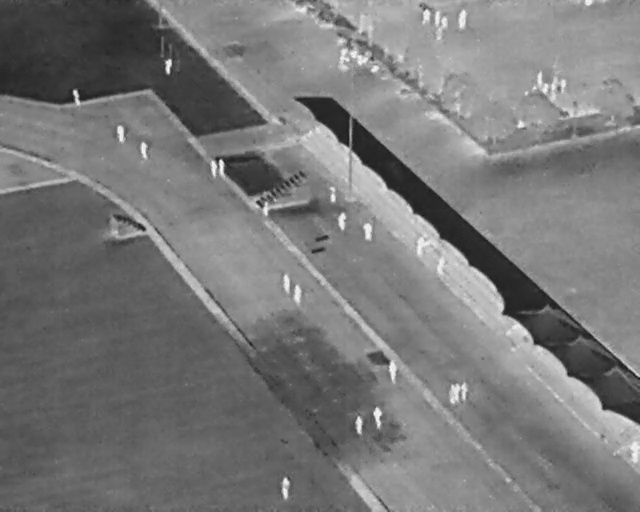DontCare: (333, 37, 385, 78)
Person: (281, 477, 291, 500), (458, 8, 468, 30), (437, 255, 447, 277), (373, 406, 382, 430), (630, 441, 639, 465), (354, 415, 364, 436), (389, 360, 398, 383), (139, 142, 149, 161), (363, 222, 373, 241), (116, 125, 126, 143), (282, 274, 291, 294), (293, 284, 302, 304), (72, 89, 81, 108), (338, 212, 347, 231), (422, 8, 432, 25), (164, 58, 173, 75), (210, 160, 218, 179), (536, 69, 543, 90), (329, 186, 337, 204), (461, 381, 468, 401), (449, 384, 456, 404), (551, 77, 559, 94), (454, 384, 461, 403), (560, 78, 568, 94), (263, 200, 270, 218), (435, 27, 443, 41), (219, 158, 224, 178), (441, 15, 448, 29), (435, 10, 440, 28), (543, 83, 550, 95)
